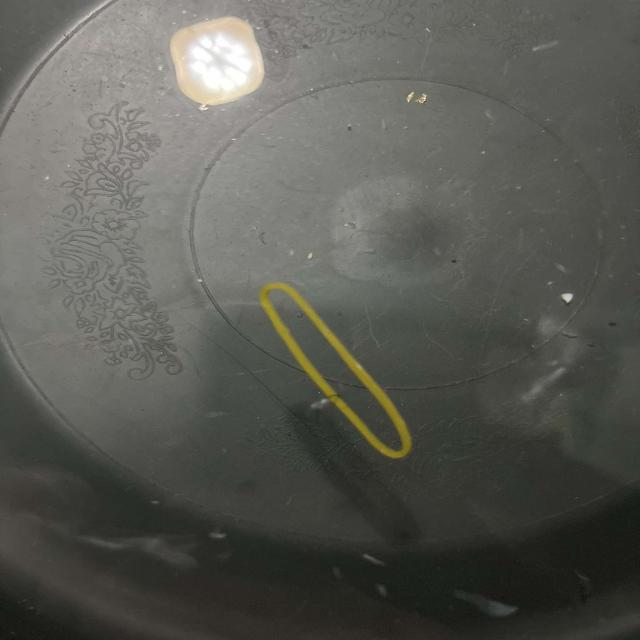Rubberband: (260, 283, 413, 459)
